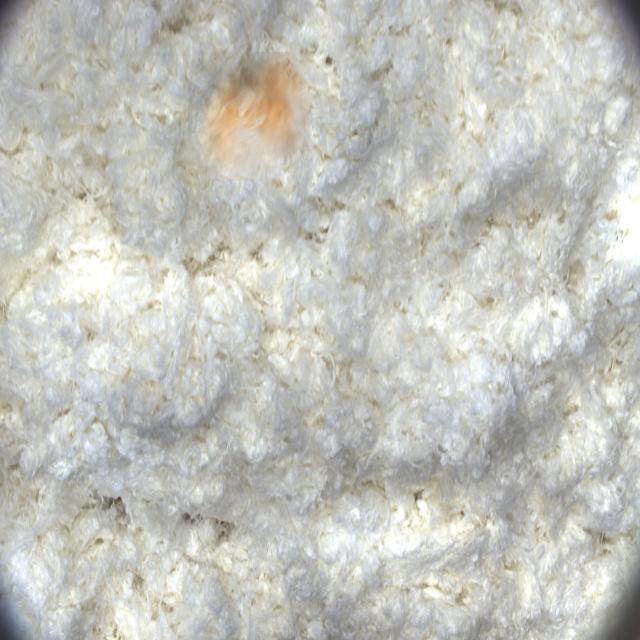dust: (188, 52, 310, 179)
